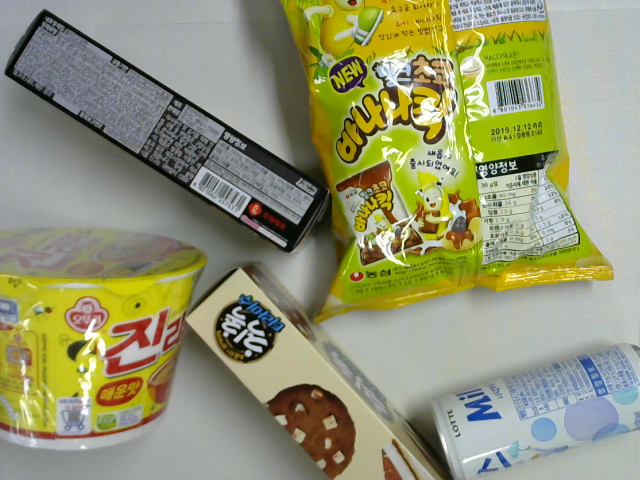Banana_Kick: (274, 1, 616, 328)
Chicchok_Original_2400: (3, 7, 332, 256)
Chicchok_Tiramisu: (181, 258, 451, 480)
Jinlamyeon_Hot_Taste_Large_Cup: (1, 223, 208, 456)
Milkies_250ml: (429, 342, 635, 480)
